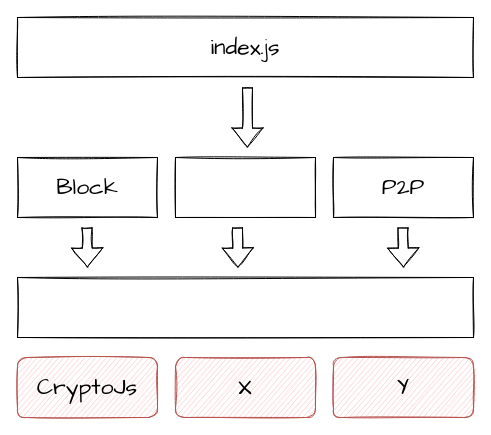
The diagram is 491 pixels wide and 435 high, and some of its shapes have lost their labels. The shapes that lost their labels are listed below. From the top down, each one's centre as x and y in pixels, then its label:
the point at 245,187: Chain
the point at 245,307: Common
